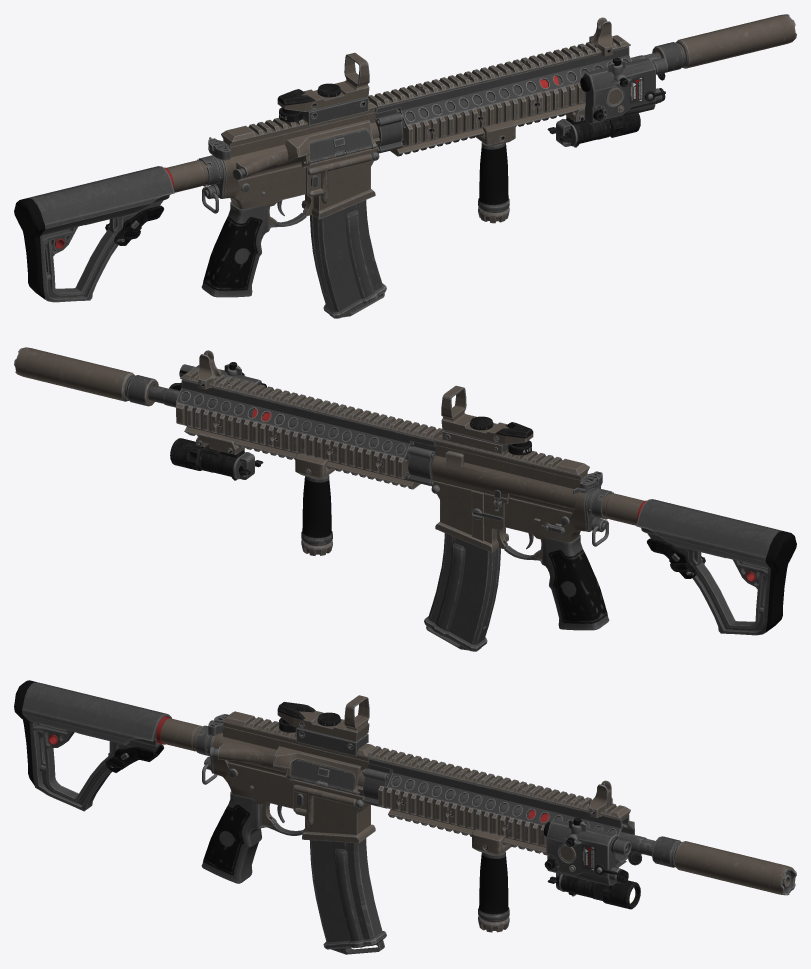
File: fuzil_tatico_m4.glb
3 views of the same model, one above another, from view 1: azimuth 30°, elevation 25°; view 2: azimuth 150°, elevation 25°; view 3: azimuth 330°, elevation 25° (orthographic).
Parts seen in each view (by area): view 1: fuzil_m4_02-material, fuzil_m4_04-material, fuzil_m4_03-material, fuzil_m4_01-material; view 2: fuzil_m4_02-material, fuzil_m4_04-material, fuzil_m4_03-material, fuzil_m4_01-material; view 3: fuzil_m4_02-material, fuzil_m4_04-material, fuzil_m4_03-material, fuzil_m4_01-material.
Part boxes in pixels (x1=…): fuzil_m4_02-material: x1=14, y1=109, x2=402, y2=302; fuzil_m4_04-material: x1=309, y1=14, x2=796, y2=163; fuzil_m4_03-material: x1=221, y1=17, x2=612, y2=318; fuzil_m4_01-material: x1=119, y1=48, x2=667, y2=241; fuzil_m4_02-material: x1=408, y1=442, x2=796, y2=635; fuzil_m4_04-material: x1=14, y1=347, x2=442, y2=489; fuzil_m4_03-material: x1=198, y1=350, x2=589, y2=651; fuzil_m4_01-material: x1=169, y1=362, x2=691, y2=575; fuzil_m4_02-material: x1=14, y1=680, x2=399, y2=883; fuzil_m4_04-material: x1=290, y1=746, x2=796, y2=895; fuzil_m4_03-material: x1=221, y1=695, x2=612, y2=954; fuzil_m4_01-material: x1=111, y1=722, x2=641, y2=909.
Bounding box in the file's own units: 0.5122 × 0.1625 × 0.0503.
Materials: 4 (4 with a texture image).
